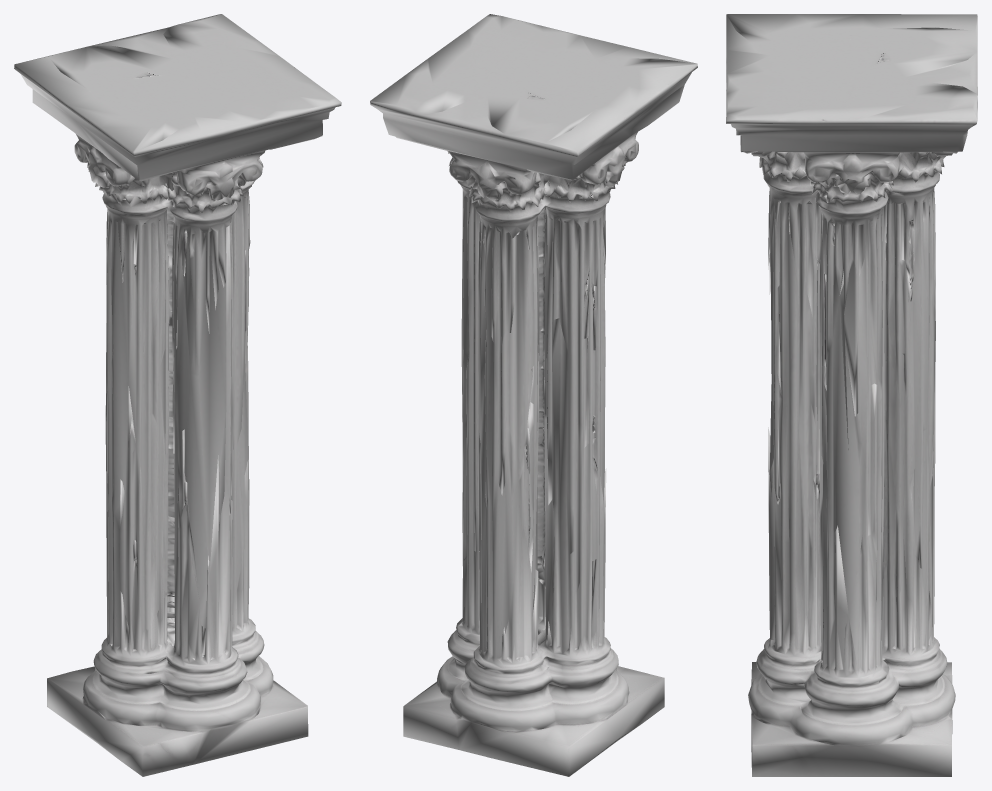
Rendered from column.glb.
3 renders of one model, left to right at view 1: azimuth 30°, elevation 25°; view 2: azimuth 150°, elevation 25°; view 3: azimuth 270°, elevation 25°, orthographic. The views are drawn at different scales.
Size of the model in its own units: 0.6517 by 1.91 by 0.6526.
Materials: 1 (1 with a texture image).
